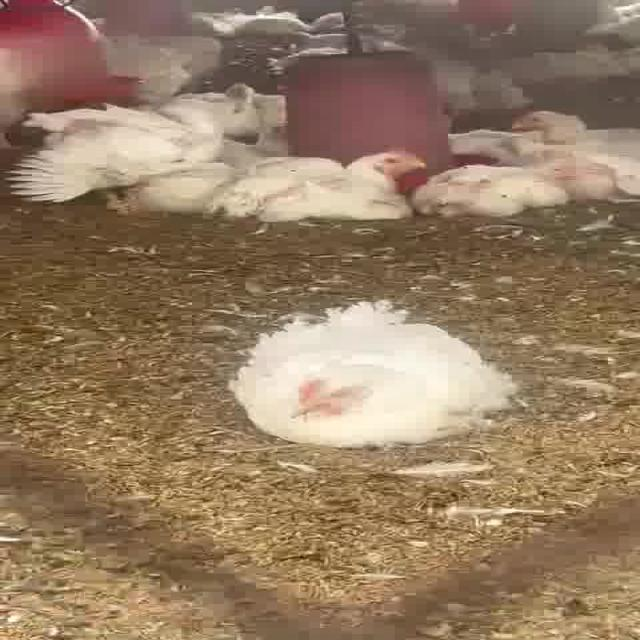AbNormal: (240, 308, 492, 449), (222, 151, 422, 227), (506, 104, 640, 170)
